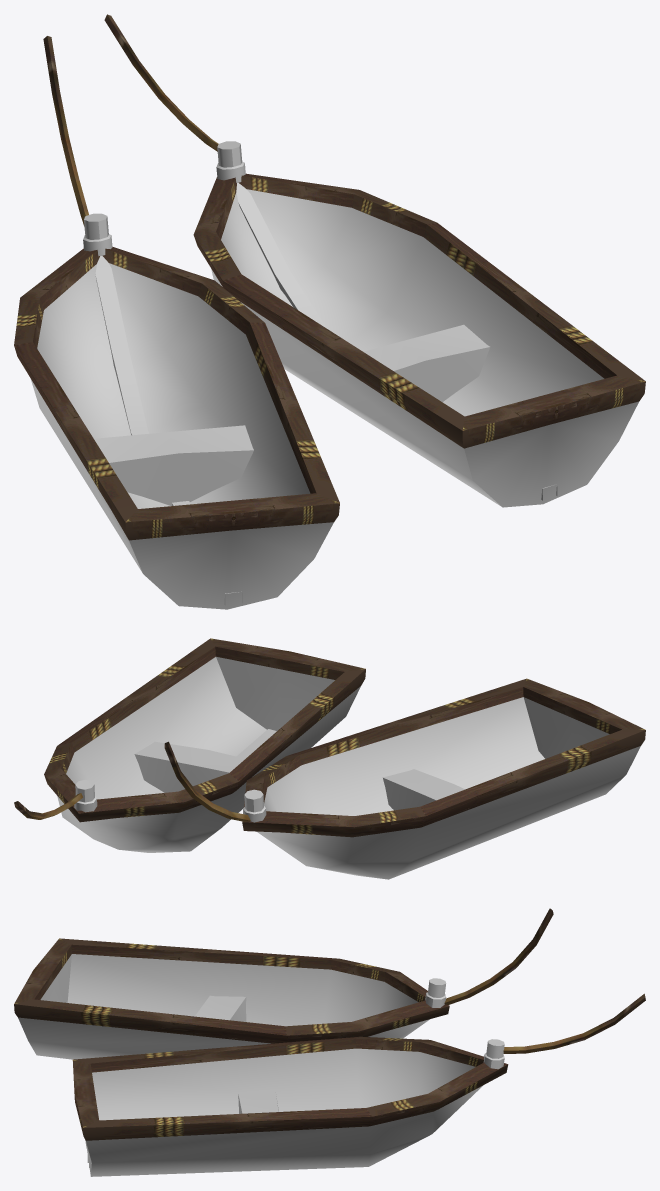
Rendered from SM_Town004_Boat.FBX.
The picture shows the model from 3 angles, top to bottom: view 1: azimuth 30°, elevation 25°; view 2: azimuth 150°, elevation 25°; view 3: azimuth 270°, elevation 25°; orthographic projection. The views are drawn at different scales.
Visible parts, largest first — view 1: SM_Town004_Boat; view 2: SM_Town004_Boat; view 3: SM_Town004_Boat.
Boxes of the visible parts, x1,y1,x2,y2 form: SM_Town004_Boat: [14, 14, 645, 609]; SM_Town004_Boat: [14, 638, 645, 879]; SM_Town004_Boat: [14, 908, 645, 1176].
Bounding box in the file's own units: 454 × 645 × 223.
